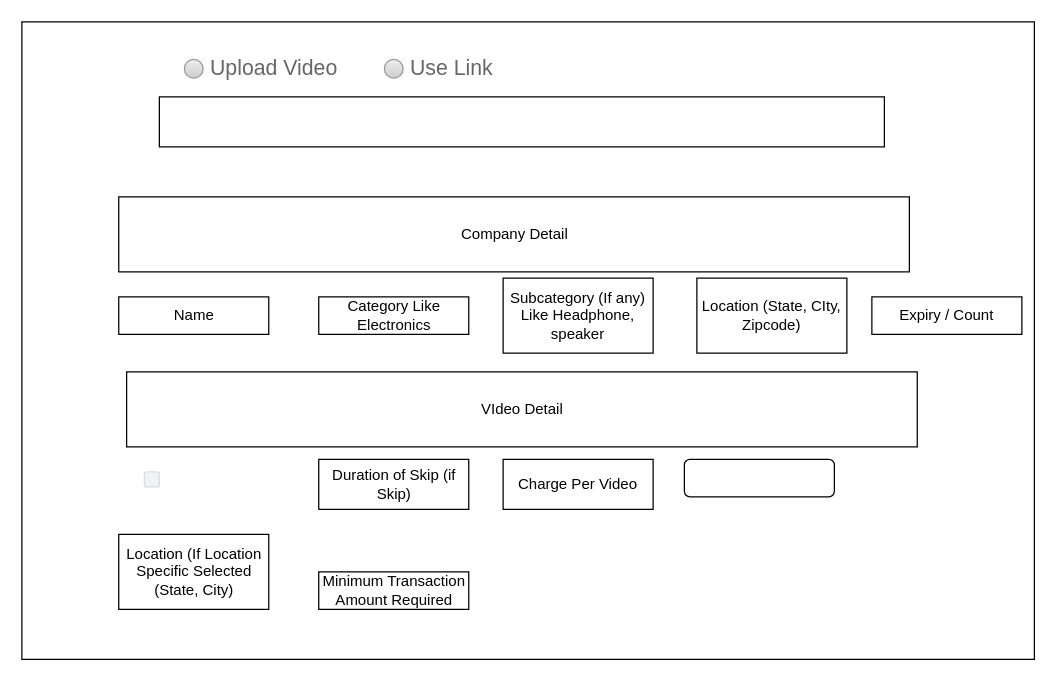
The diagram is 1056 pixels wide and 681 high, and some of its shapes have lost their labels. The shapes that lost their labels are listed below. From the top down, each one's centre as x and y in pixels, then its label:
[521,121]: Video (With crop)
[151,479]: Skip
[758,477]: Location Specific
